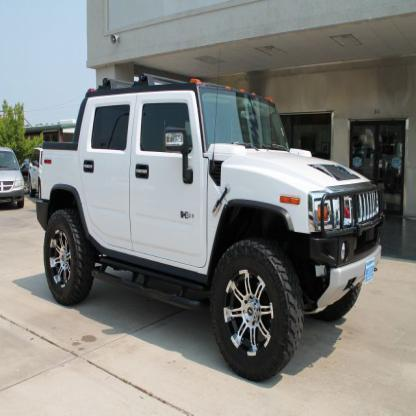Vehicle: (35, 72, 382, 384)
